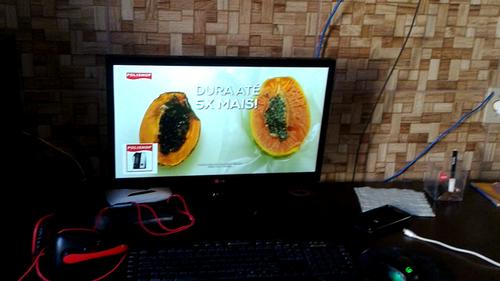Polishop #1: (123, 143, 158, 175)
